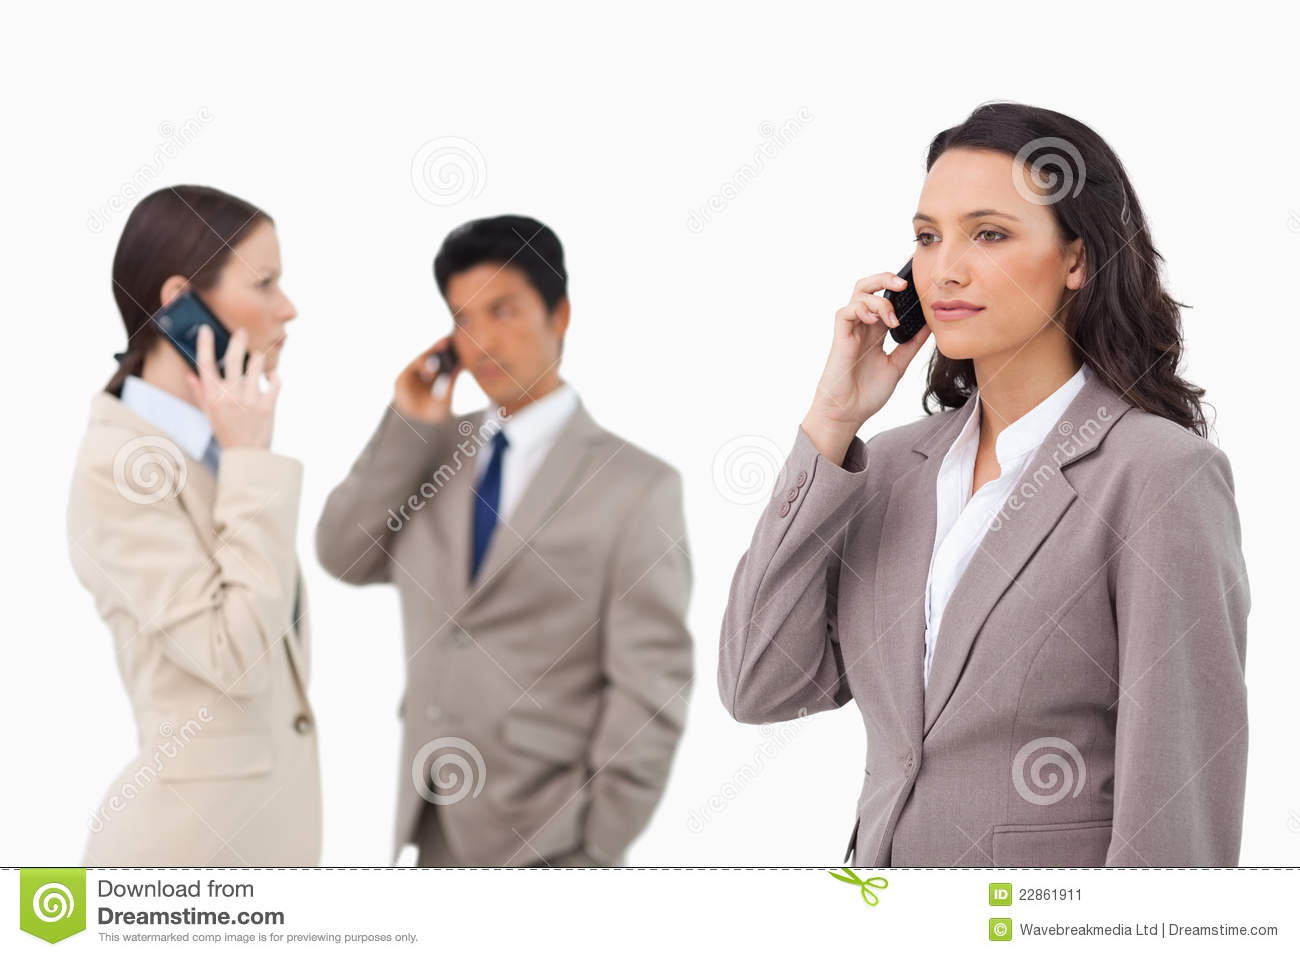talk: (811, 197, 1028, 423)
